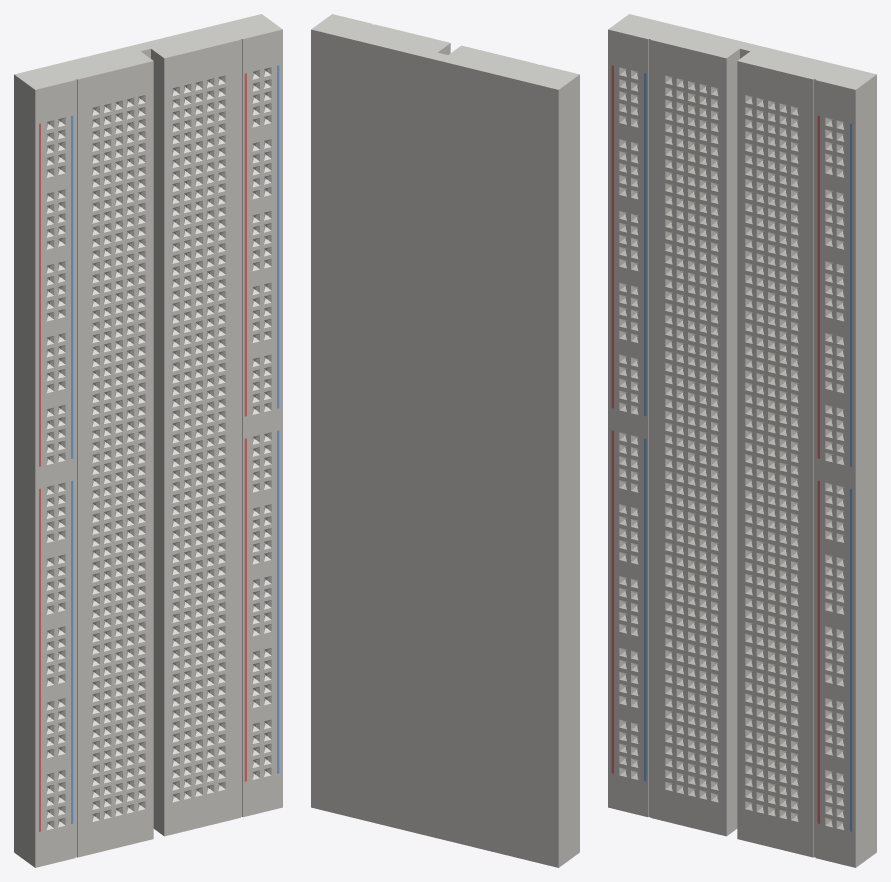
The model's file is breadboard.glb.
3 renders of one model, left to right at view 1: azimuth 30°, elevation 25°; view 2: azimuth 150°, elevation 25°; view 3: azimuth 330°, elevation 25°, orthographic.
Visible parts, largest first — view 1: body, rail_minus, rail_plus; view 2: body; view 3: body, rail_plus, rail_minus.
Boxes of the visible parts, bbox=[...] form: body: bbox=[14, 14, 282, 867]; rail_minus: bbox=[71, 65, 279, 823]; rail_plus: bbox=[39, 73, 246, 831]; body: bbox=[311, 14, 579, 867]; body: bbox=[608, 14, 876, 867]; rail_plus: bbox=[611, 65, 819, 823]; rail_minus: bbox=[644, 73, 851, 831].
Size of the model in its own units: 0.055 by 0.1651 by 0.00815.
